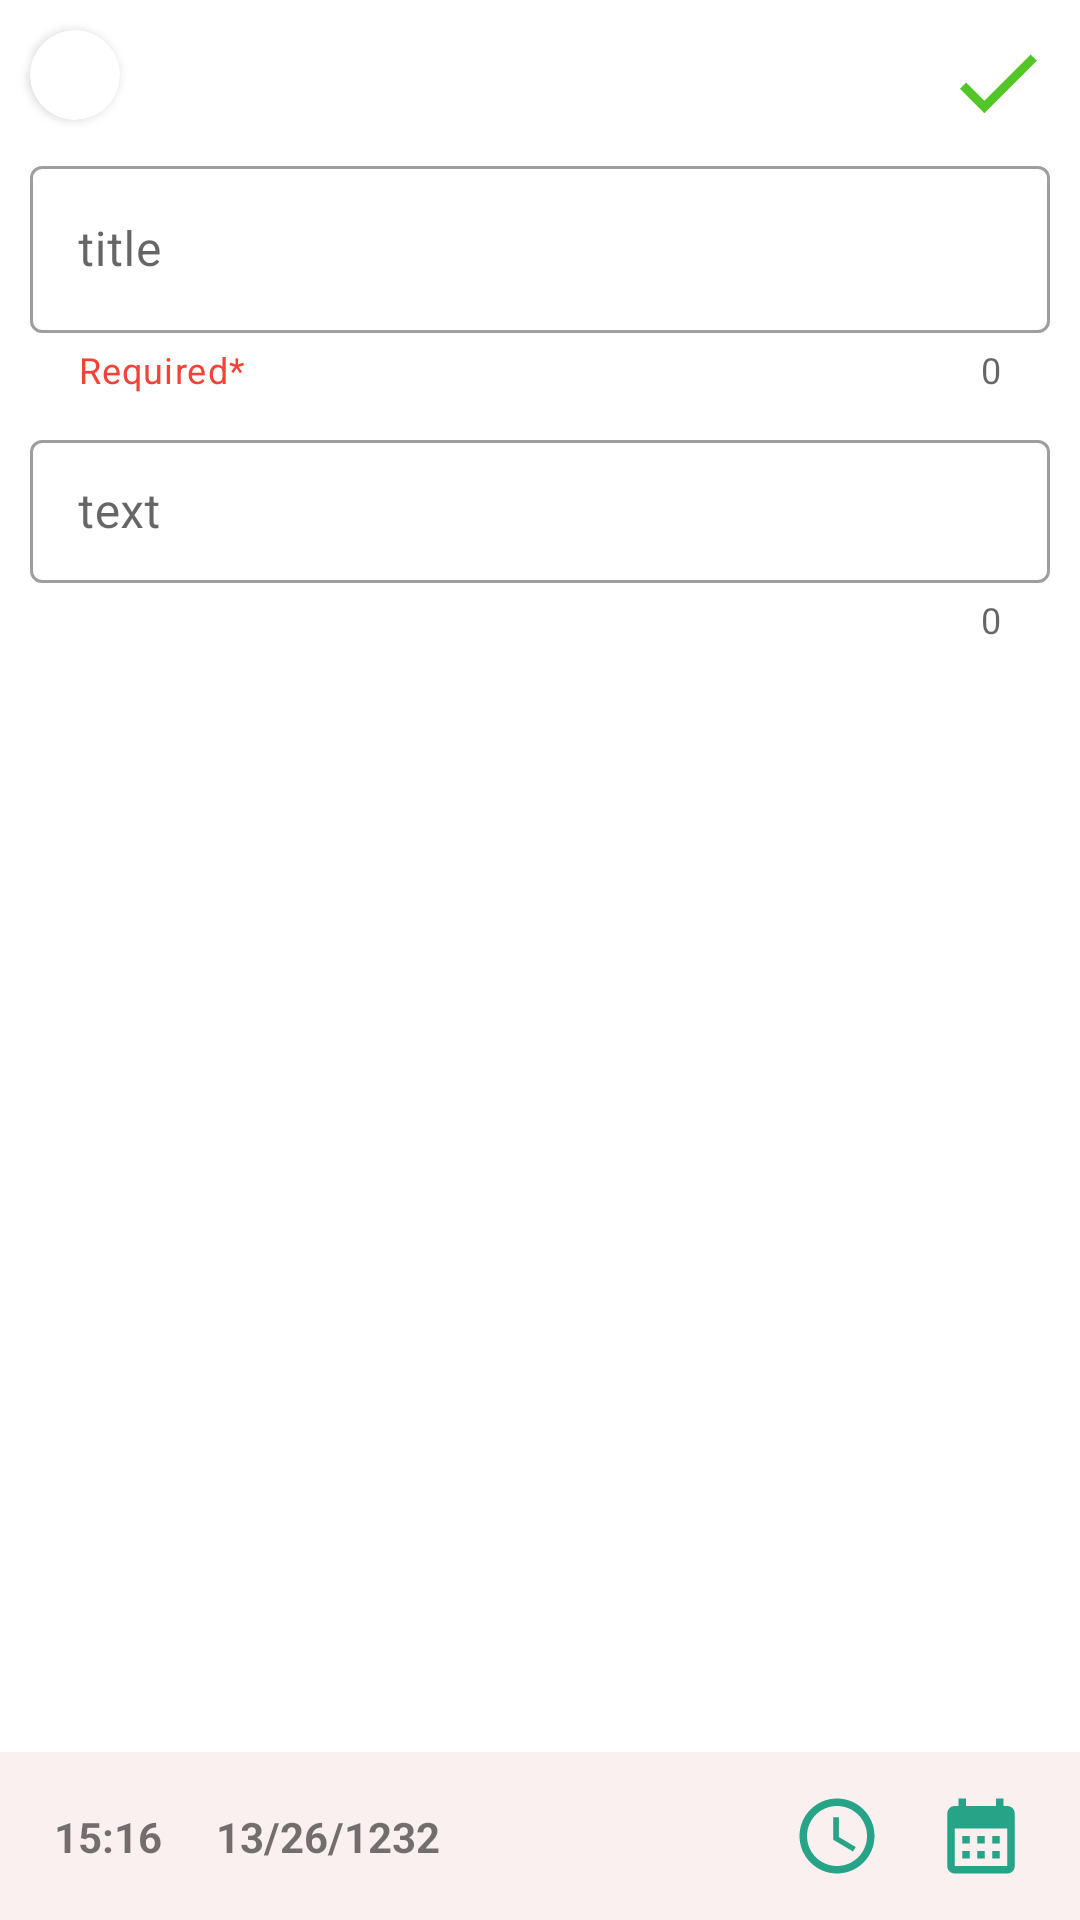

Screen size 1080x1920. Icon name, then its center in pixels as [x,y]:
access time: [837,1836]
calendar month: [981,1836]
check: [998,83]
